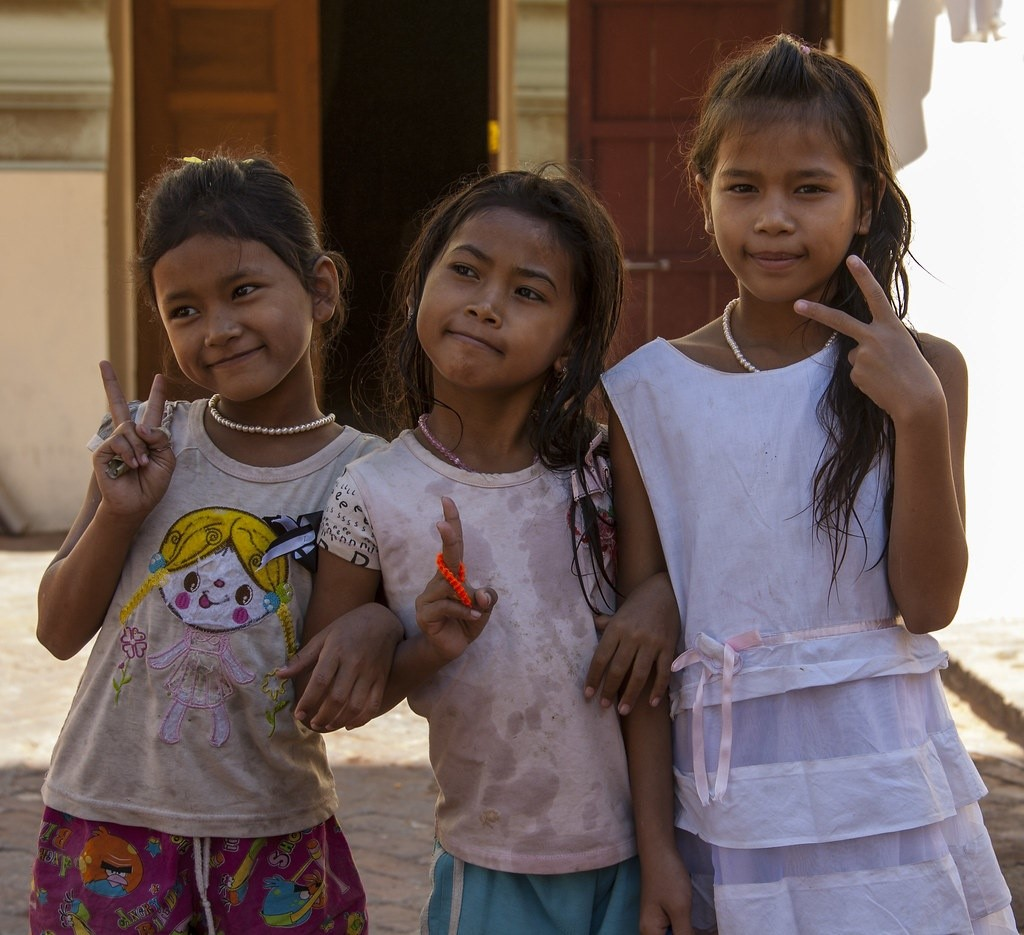face_no_mask: (691, 40, 888, 301), (142, 155, 337, 400), (412, 167, 624, 389)
